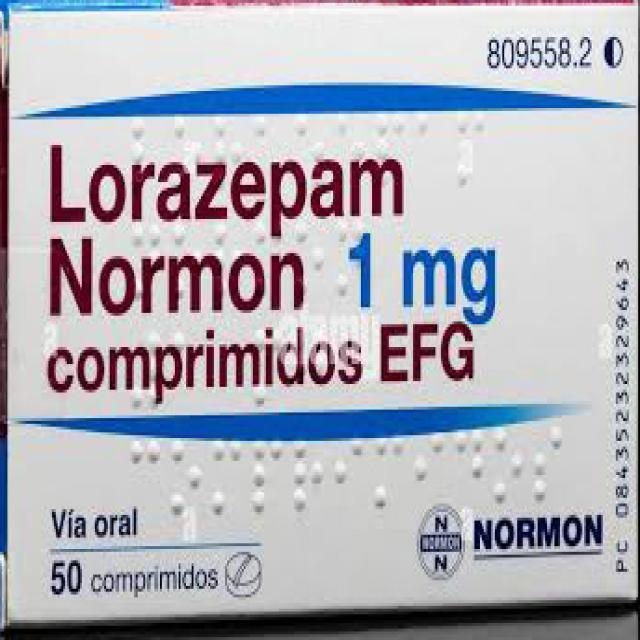drug-name: (44, 237, 312, 314)
